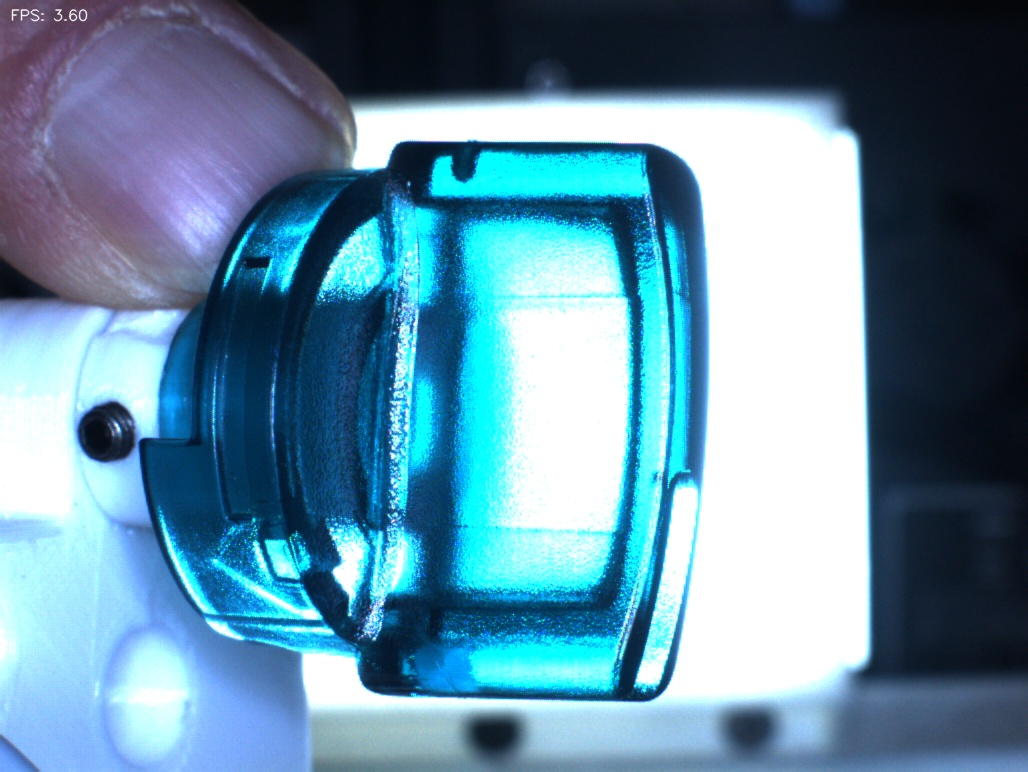Bulle: (424, 116, 509, 208)
